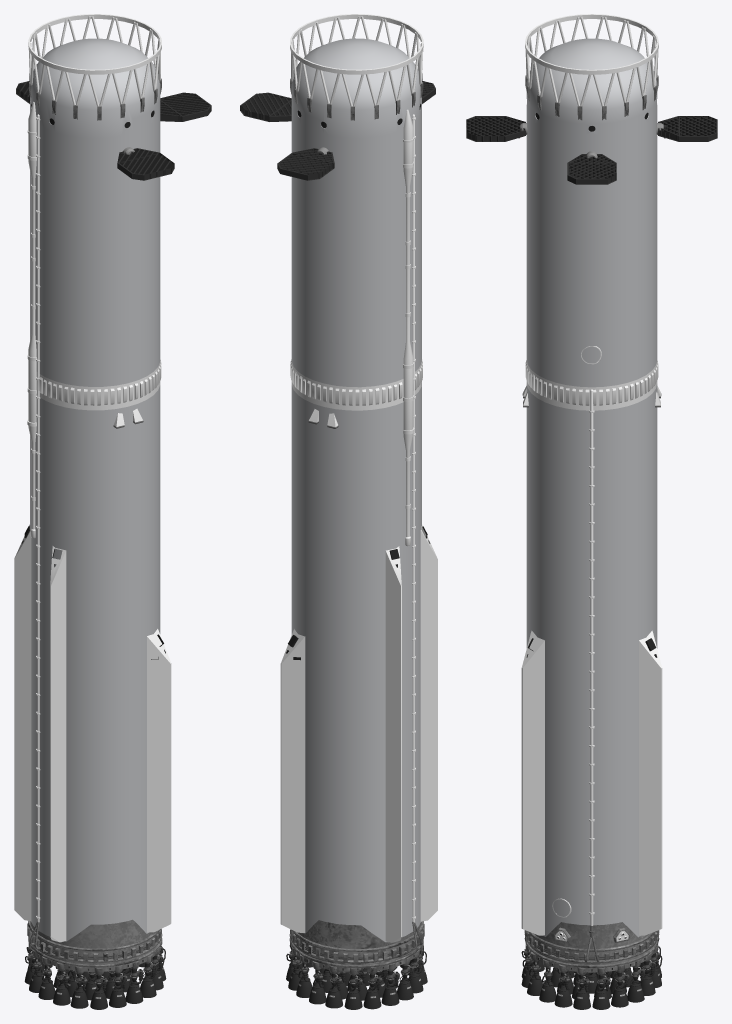
The model's file is booster.glb.
The picture shows the model from 3 angles, left to right: view 1: azimuth 30°, elevation 25°; view 2: azimuth 150°, elevation 25°; view 3: azimuth 270°, elevation 25°; orthographic projection.
Parts seen in each view (by area): view 1: Booster_Body, GridFin_Catch_B_Mesh, GridFin_Rudder_Mesh; view 2: Booster_Body, GridFin_Catch_A_Mesh, GridFin_Rudder_Mesh; view 3: Booster_Body, GridFin_Catch_A_Mesh, GridFin_Catch_B_Mesh, GridFin_Rudder_Mesh.
Boxes of the visible parts, x1,y1,x2,y2 form: Booster_Body: [14, 14, 171, 1009]; GridFin_Catch_B_Mesh: [117, 147, 174, 180]; GridFin_Rudder_Mesh: [160, 92, 211, 121]; Booster_Body: [280, 14, 437, 1009]; GridFin_Catch_A_Mesh: [277, 147, 334, 180]; GridFin_Rudder_Mesh: [240, 92, 291, 121]; Booster_Body: [521, 14, 662, 1009]; GridFin_Catch_A_Mesh: [656, 116, 717, 141]; GridFin_Catch_B_Mesh: [466, 116, 527, 141]; GridFin_Rudder_Mesh: [567, 151, 616, 184].
Size of the model in its own units: 13.79 by 72.32 by 17.46.
15 materials, 2 textured.
